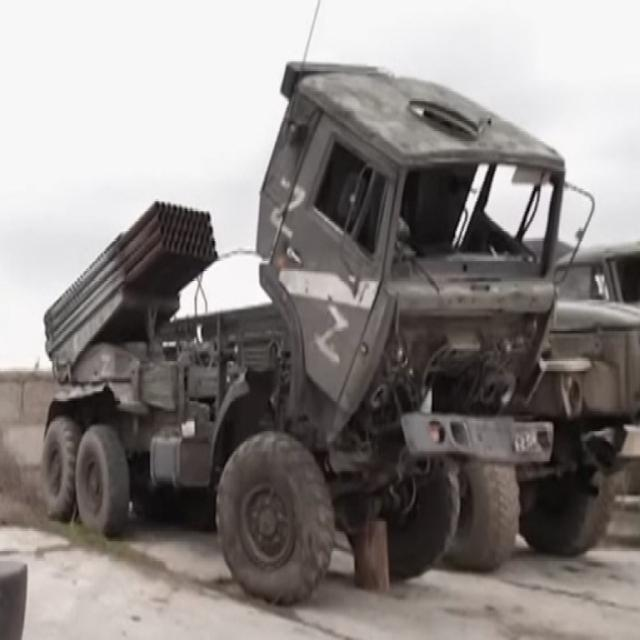MLRS: (38, 58, 564, 609)
